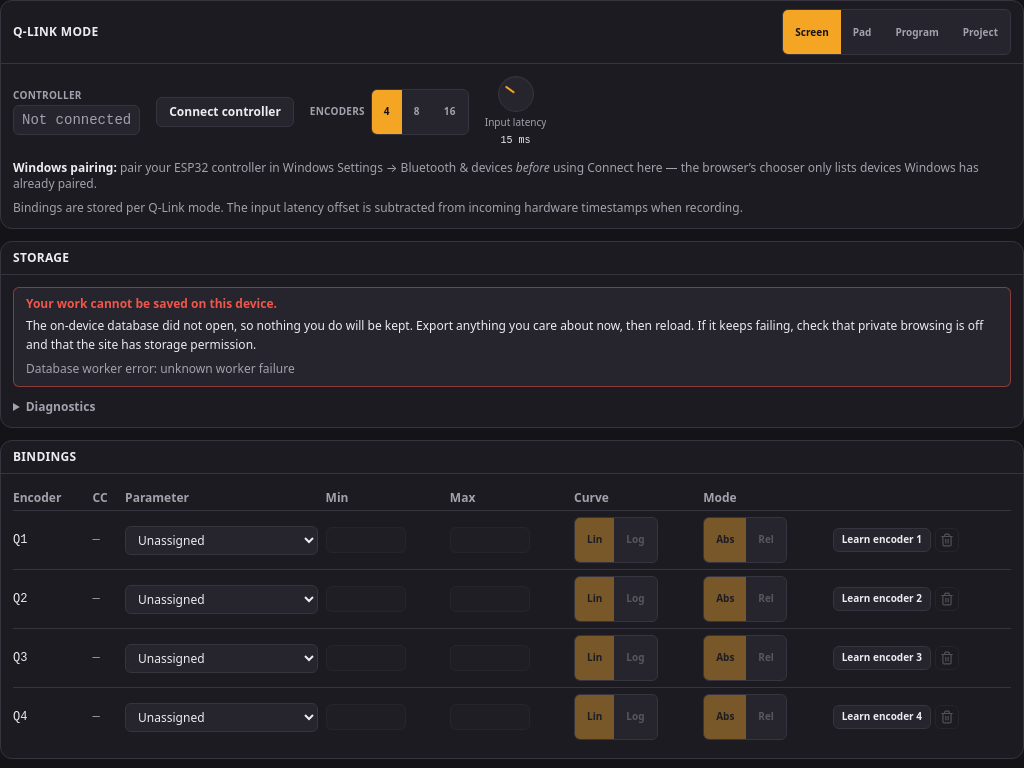
QLinkEditMode (spec §8.5.11) › shows the CC each encoder listens on
Select "master · level" in the dropdown with test id "qlink-param-0": (221, 540) [125, 526, 318, 554]
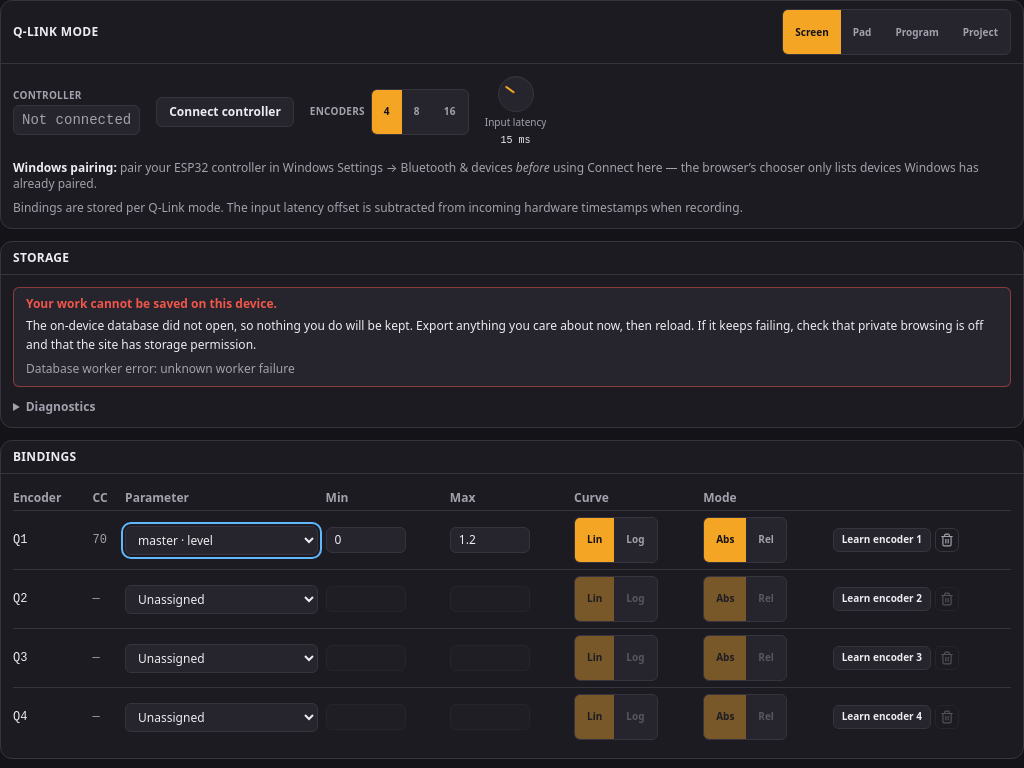
Result: the cell with test id "qlink-cc-0" reads "70" at [92, 533, 107, 547]
